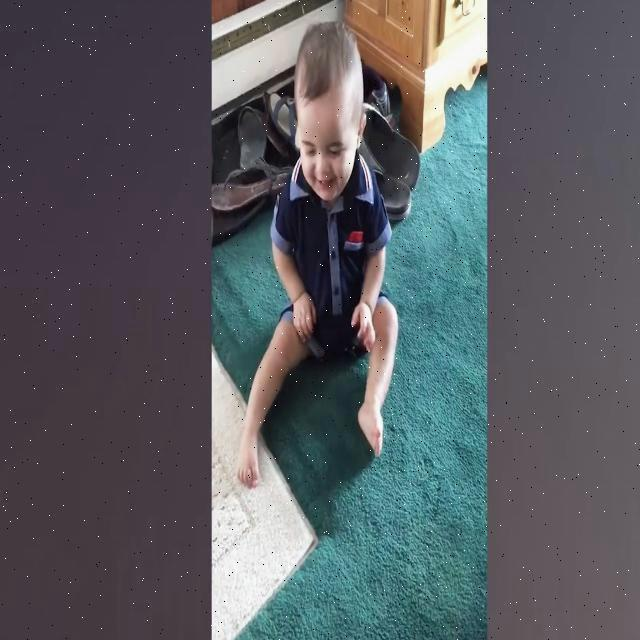child: (237, 22, 398, 481)
